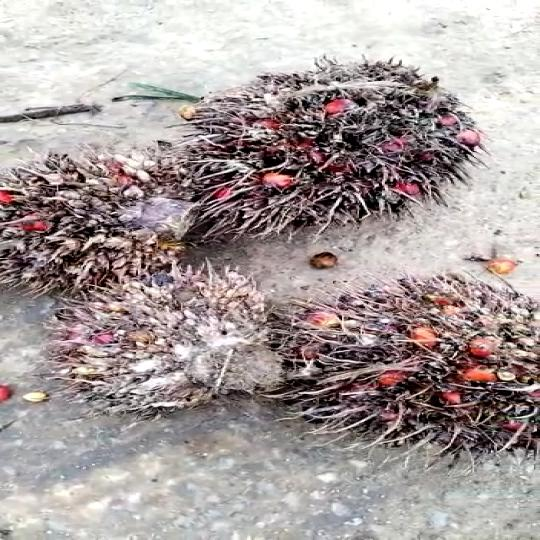terlalu masak: (155, 72, 473, 224), (58, 264, 280, 409), (0, 161, 180, 278)
